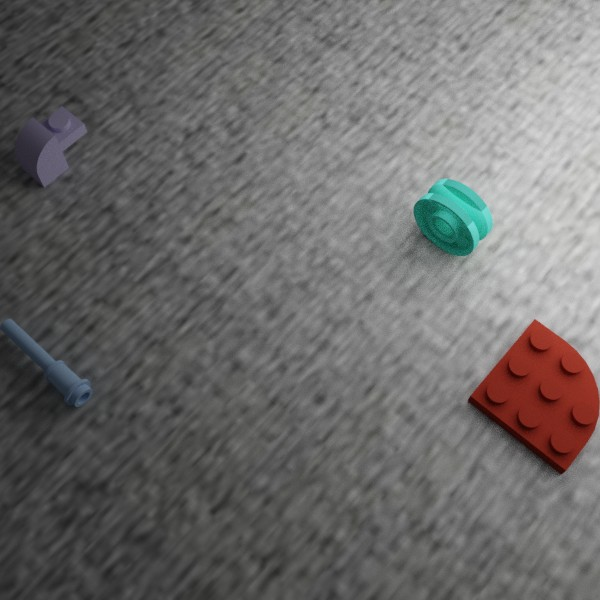lego: (467, 318, 600, 474), (0, 318, 92, 407), (413, 178, 493, 256), (15, 106, 87, 187)
